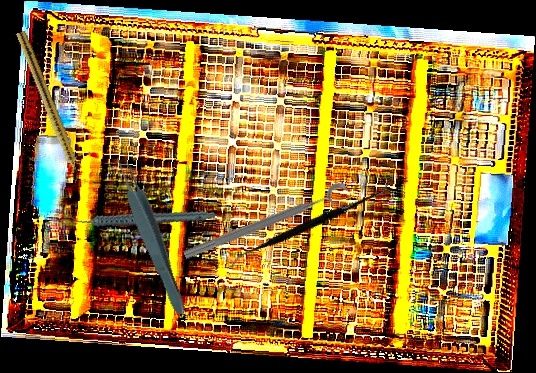Fixation Ring: (180, 180, 355, 273)
Handpiece: (12, 30, 86, 184), (68, 184, 217, 249)
Spatula Surgical: (230, 130, 392, 315)
Tissue Forceps: (110, 152, 193, 318)
